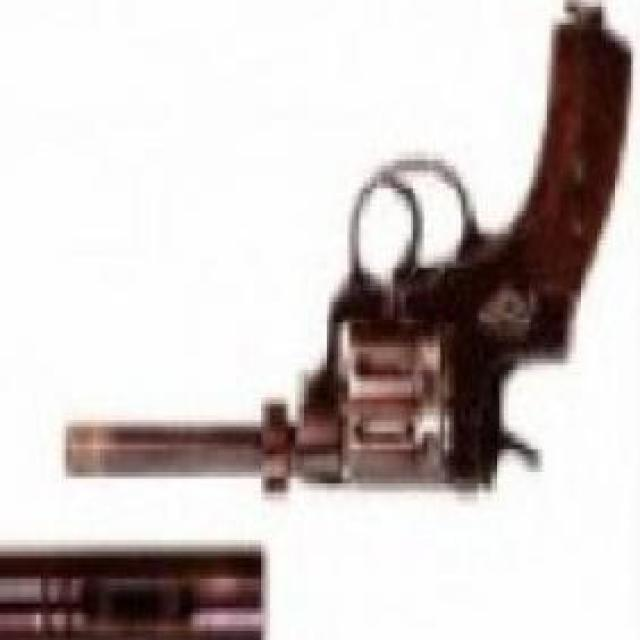pistol: (66, 22, 624, 510)
